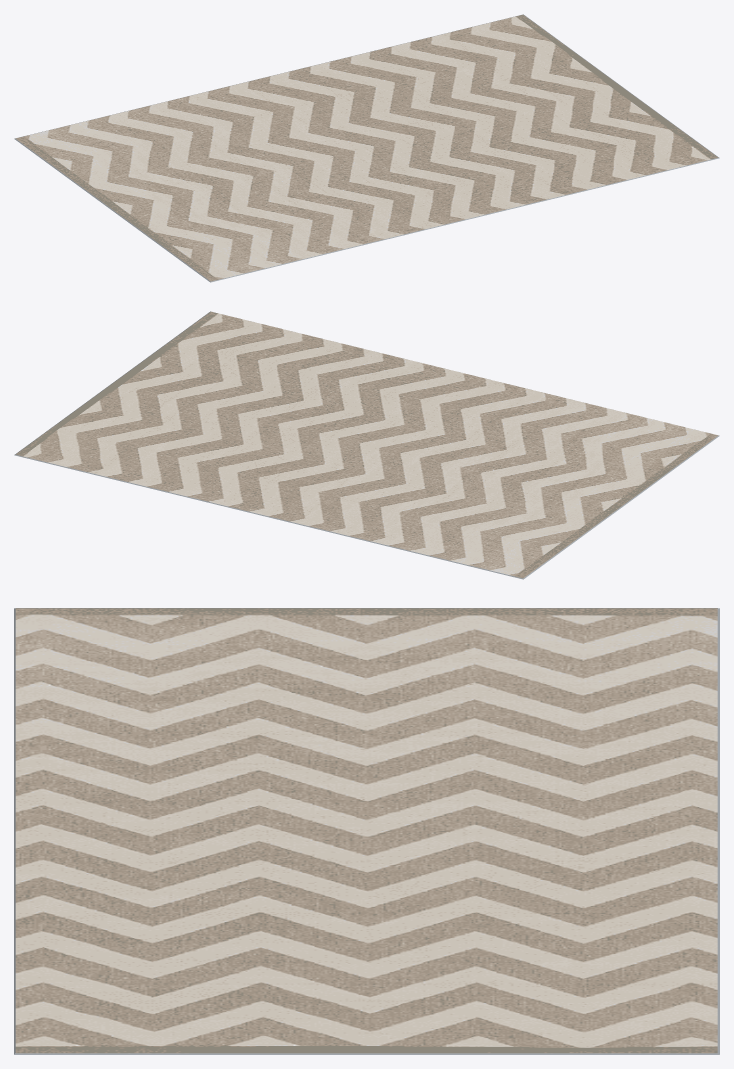
Rendered from carpet_type_4.glb.
The picture shows the model from 3 angles, top to bottom: view 1: azimuth 30°, elevation 25°; view 2: azimuth 150°, elevation 25°; view 3: azimuth 270°, elevation 25°; orthographic projection. The views are drawn at different scales.
Visible parts, largest first — view 1: Plane.008; view 2: Plane.008; view 3: Plane.008.
Part boxes in pixels (bbox=[...]): Plane.008: bbox=[14, 14, 719, 282]; Plane.008: bbox=[14, 311, 719, 579]; Plane.008: bbox=[14, 608, 719, 1054].
Bounding box in the file's own units: 3.01 × 0.00257 × 2.01.
Materials: 2 (1 with a texture image).
